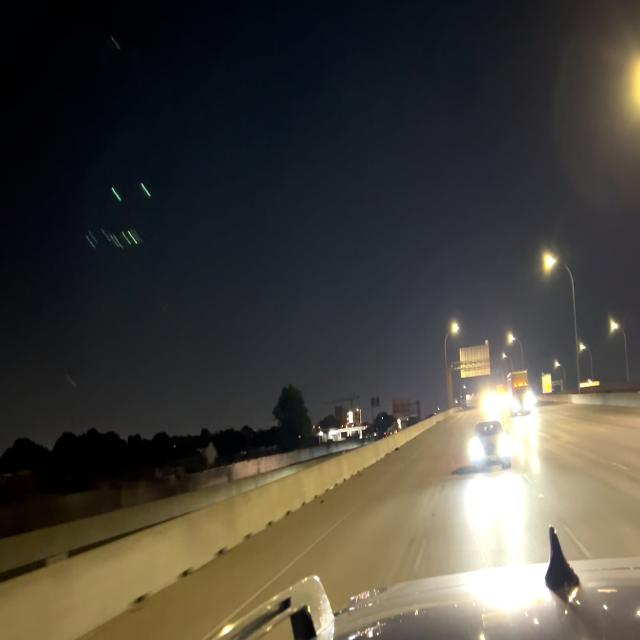back-of-sign: (459, 340, 491, 377), (391, 394, 413, 420)
